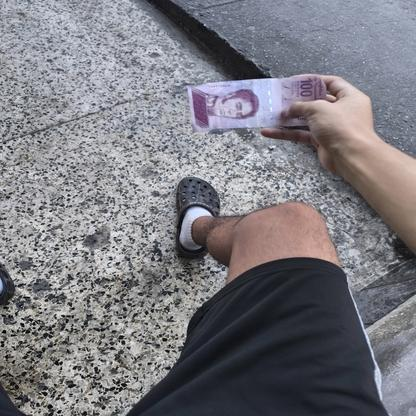one_hundred-front-vef: (187, 74, 327, 133)
